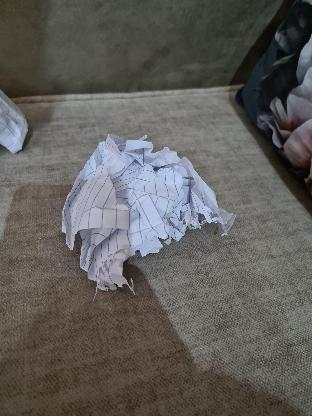Paper: (58, 132, 232, 288)
